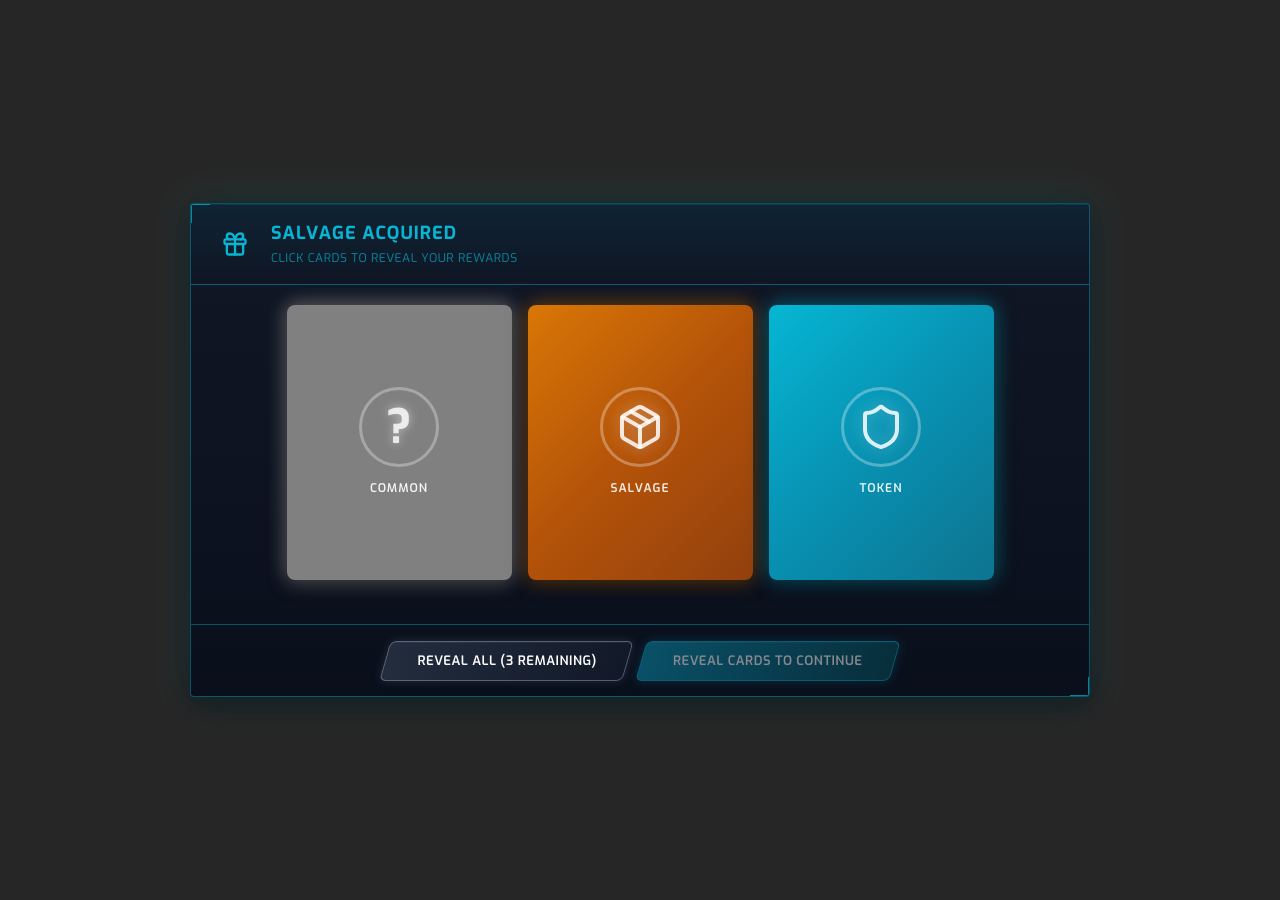
LootRevealModal - Token Display › allRevealed state with tokens › handleRevealAll includes tokens
Click "Reveal All"
Step 1. Click the button "Reveal All (3 remaining)" → (507, 661), box [386,641,629,680]
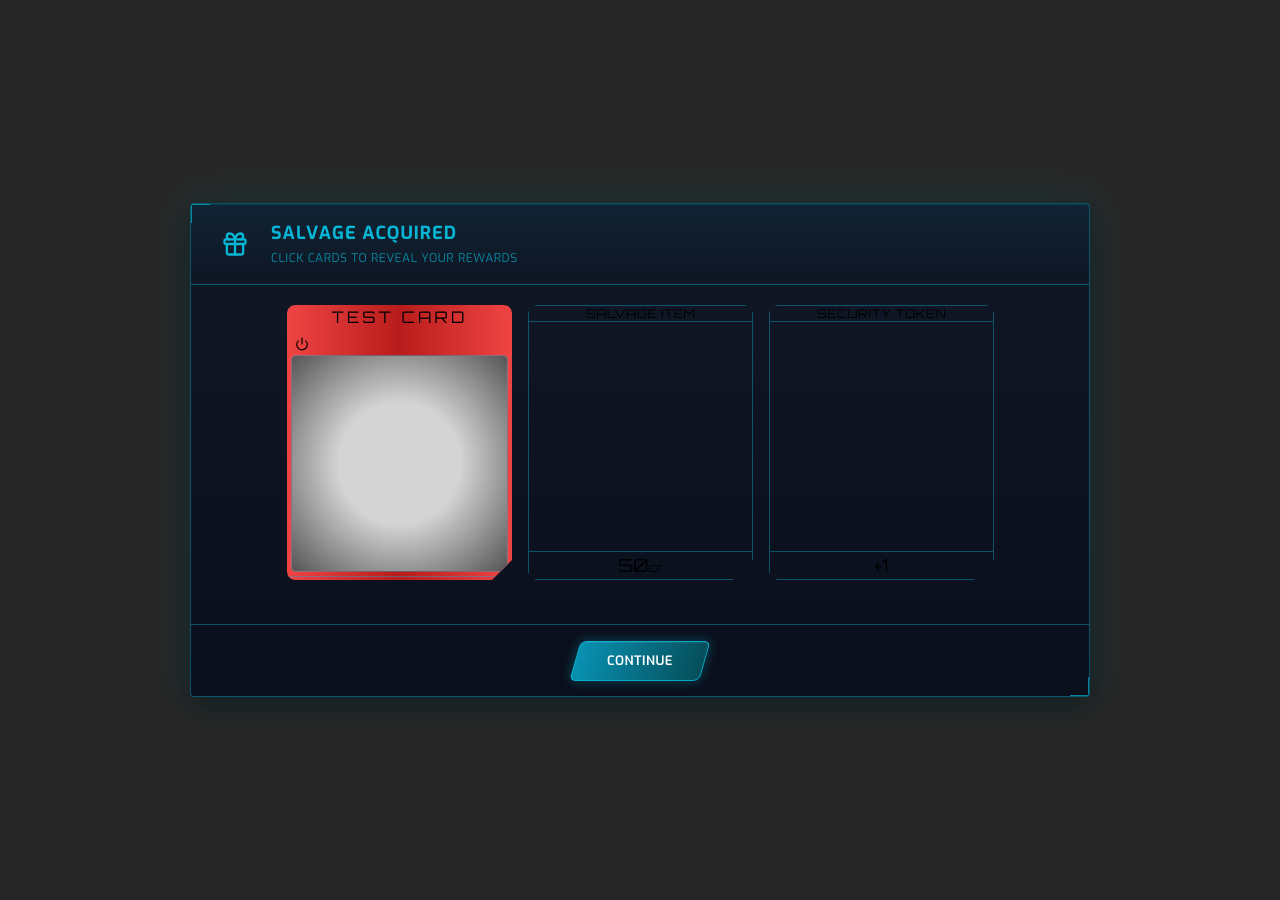
Result: the button "Continue" is enabled at [575,641,705,680]
